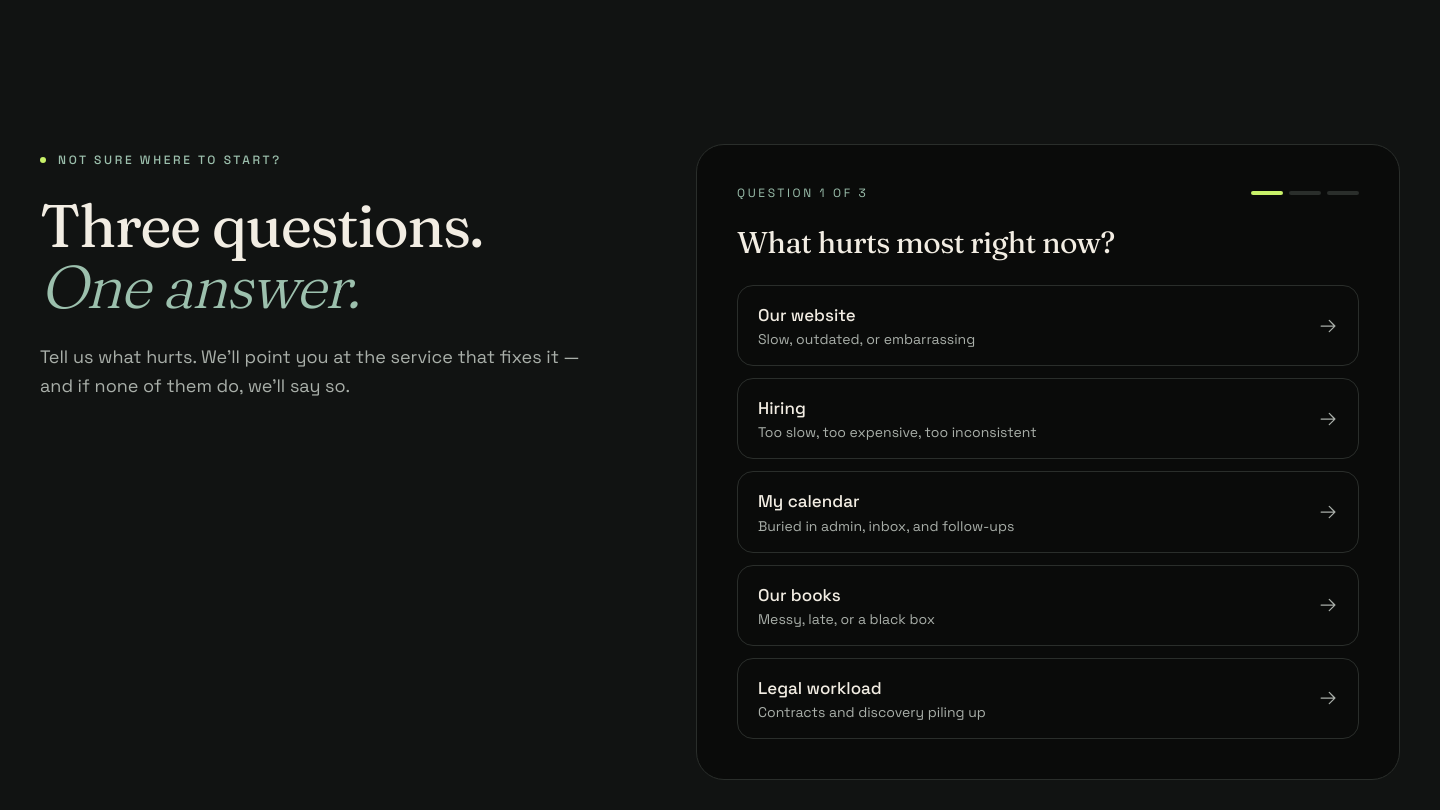
Test: ServiceFinderQuiz › back button returns to the previous question
Click the button "My calendar Buried in admin, inbox, and follow-ups". click: click(809, 501)
box: [737,471,1359,553]
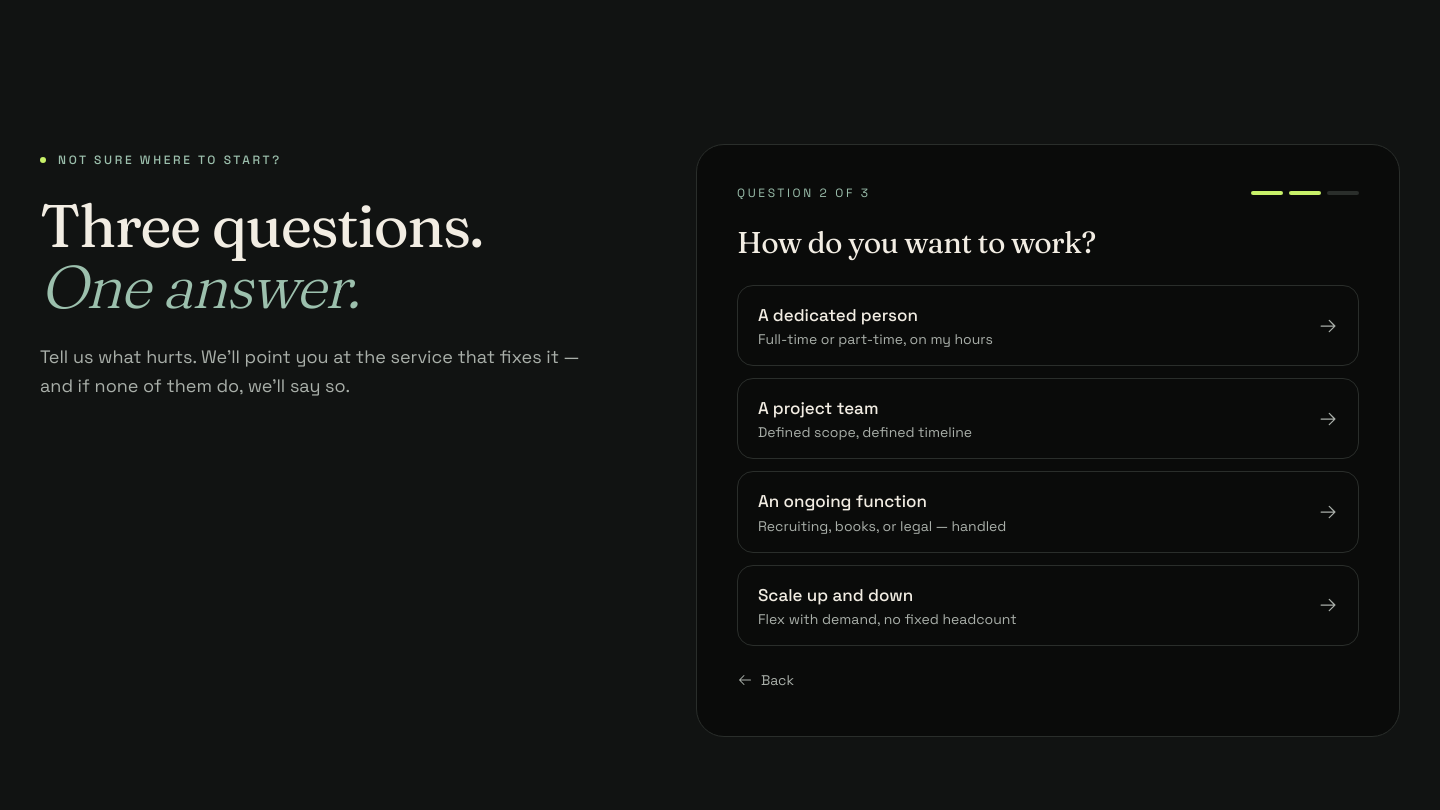
Result: the text "Question 2 of 3" is shown at [737,185,871,201]
Click the button "Back". click: click(766, 680)
box: [737,670,794,690]
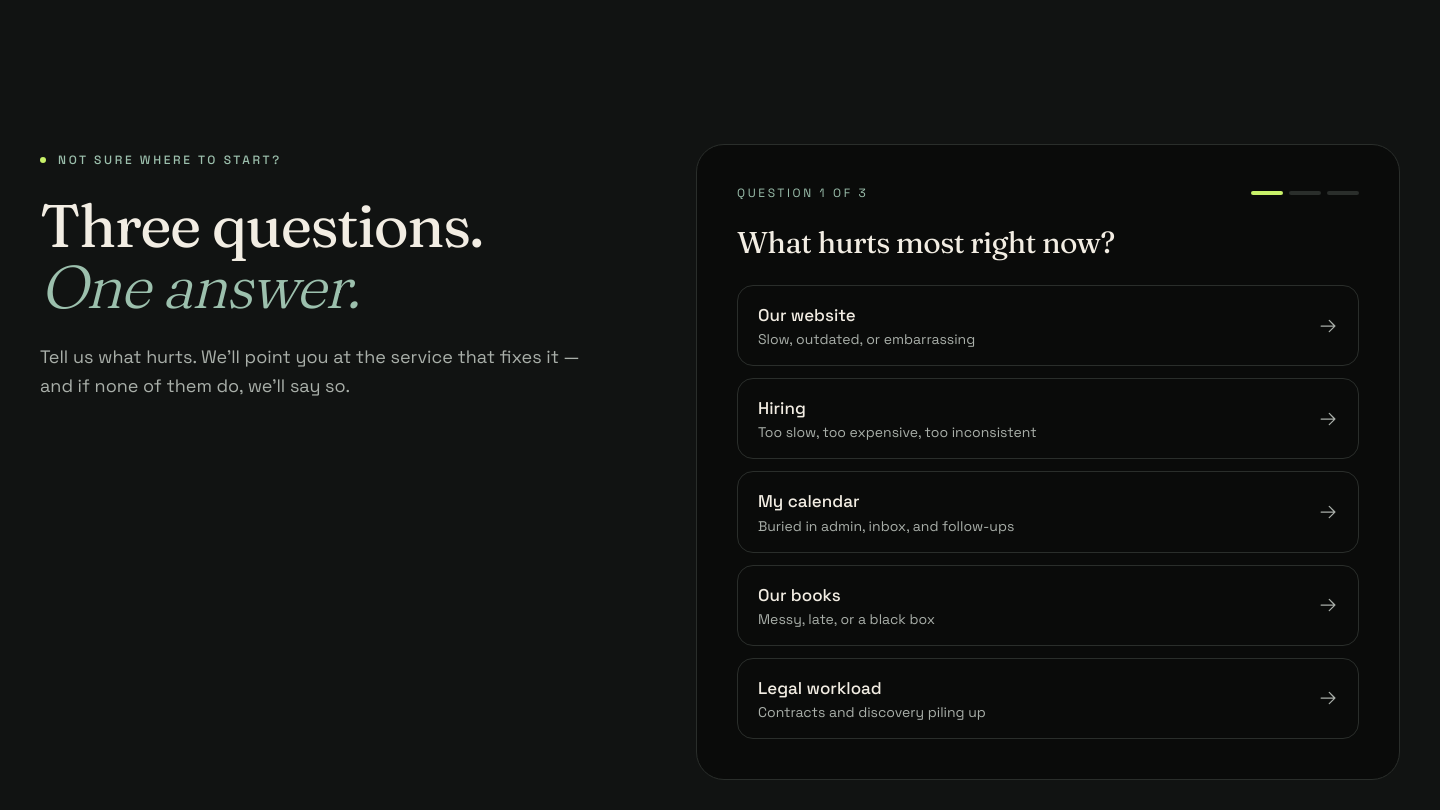
Result: the text "Question 1 of 3" is shown at [737,185,868,201]
